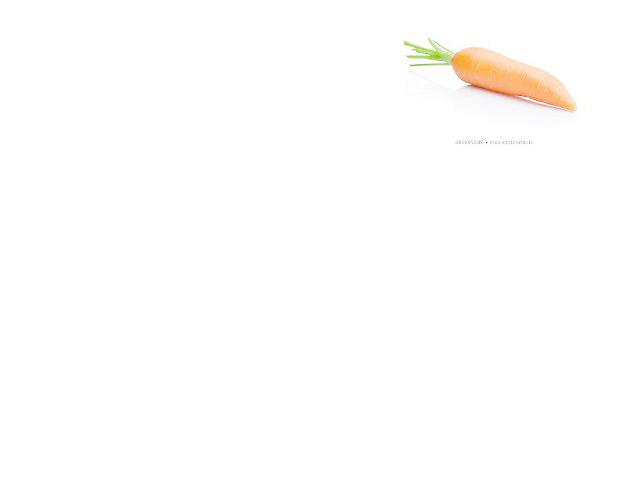carrot: (448, 42, 581, 113)
